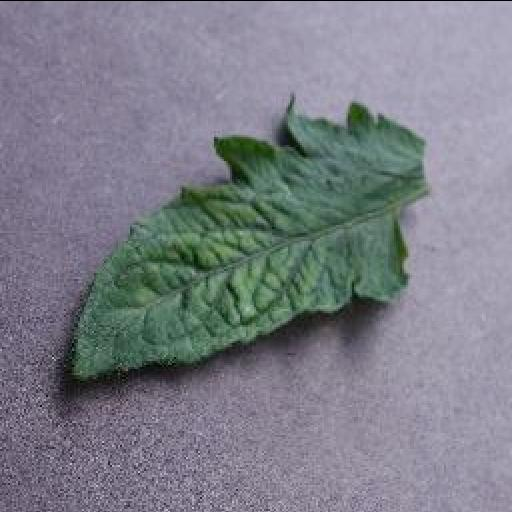disease_tomato: (68, 89, 434, 387)
